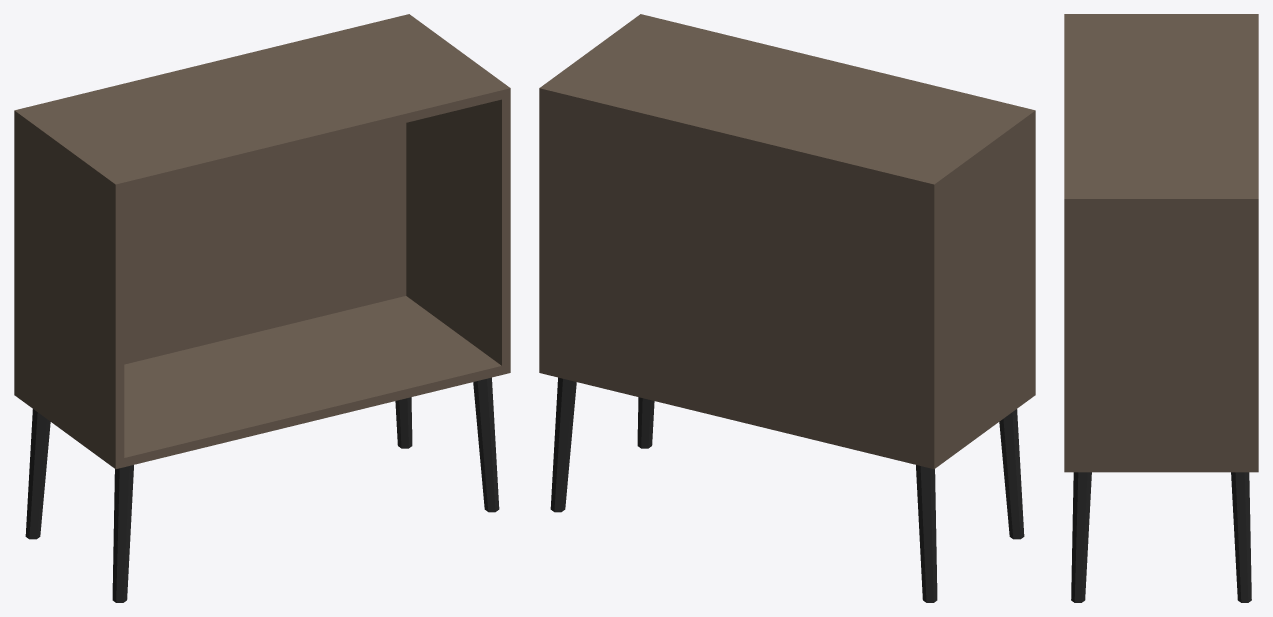
File: Dresser3_C1.fbx
The picture shows the model from 3 angles, left to right: view 1: azimuth 30°, elevation 25°; view 2: azimuth 150°, elevation 25°; view 3: azimuth 270°, elevation 25°; orthographic projection. The views are drawn at different scales.
Visible parts, largest first — view 1: Dresser3_C1; view 2: Dresser3_C1; view 3: Dresser3_C1.
Boxes of the visible parts, bbox=[...] form: Dresser3_C1: bbox=[14, 14, 510, 602]; Dresser3_C1: bbox=[539, 14, 1035, 602]; Dresser3_C1: bbox=[1064, 14, 1258, 602].
Size of the model in its own units: 90 by 92.28 by 40.
